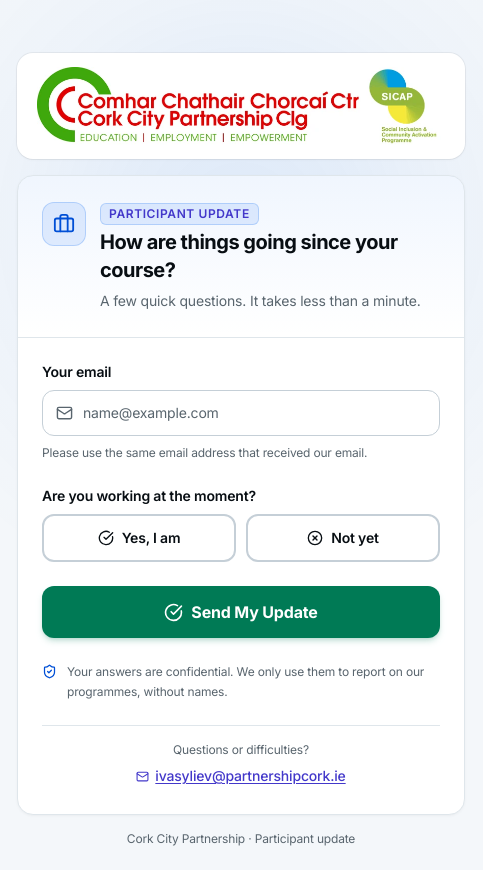
StatusUpdatePage › submits a working status and shows a summary
Step 1. Type "Anna@Example.com" into the field labelled "Your email" → {"x": 241, "y": 413}, box [42,390,440,436]
Step 2. Click the button "Yes, I am" → {"x": 139, "y": 538}, box [42,514,236,562]
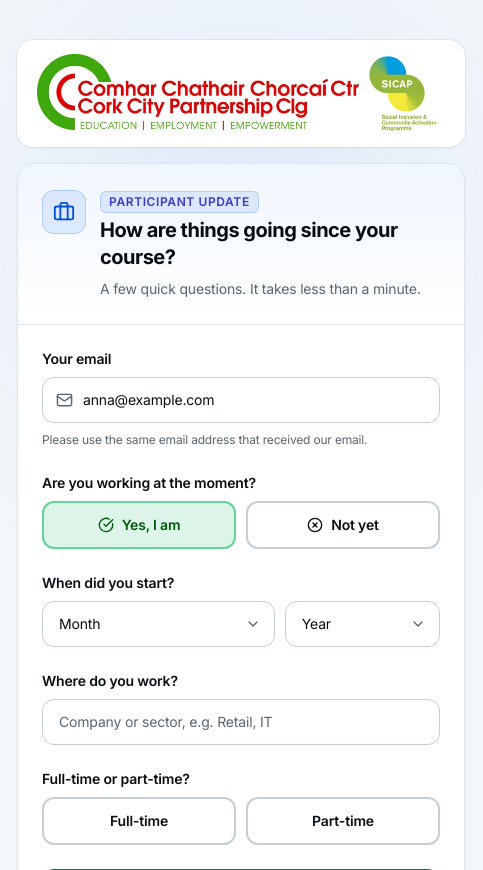
Step 3. Select "March" in the dropdown named "start month" → {"x": 158, "y": 624}, box [42,601,275,647]
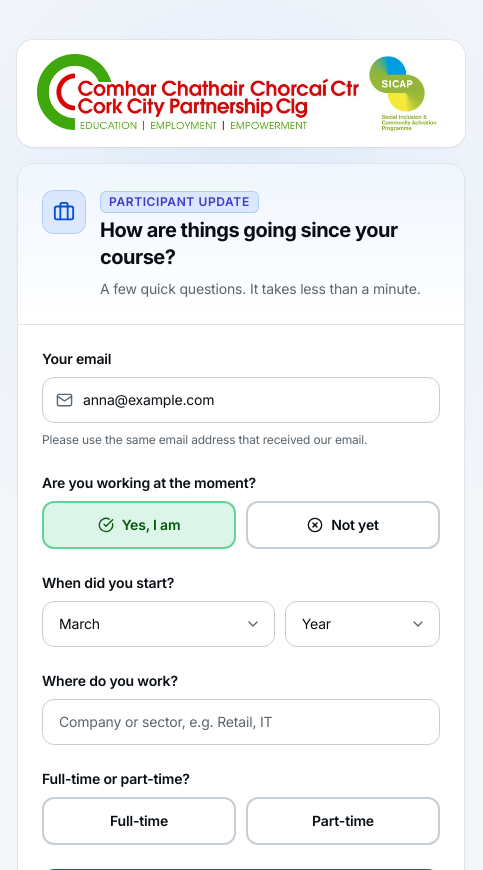
Step 4. Select "2024" in the dropdown named "start year" → {"x": 362, "y": 624}, box [285,601,440,647]
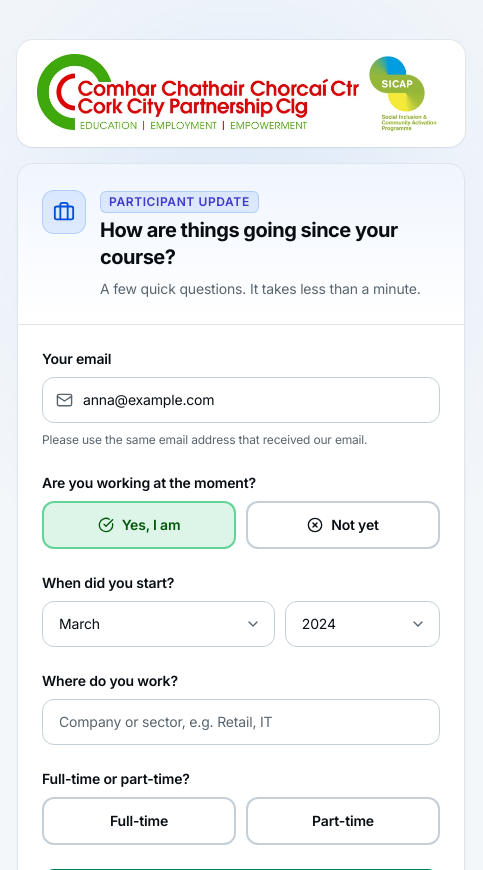
Step 5. Type "Retail" into the field labelled "Where do you work?" → {"x": 241, "y": 722}, box [42,699,440,745]
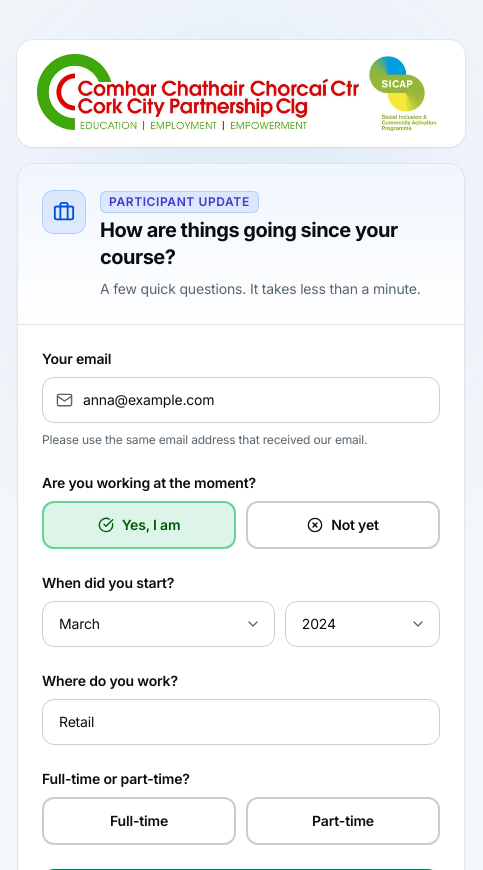
Step 6. Click the button "Part-time" → {"x": 343, "y": 821}, box [246,797,440,845]
(page scrolled)
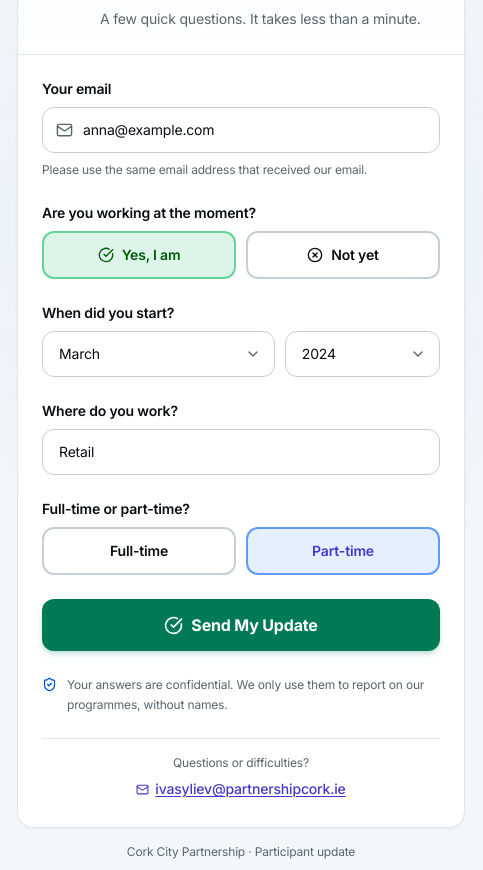
Step 7. Click the button "Send My Update" → {"x": 241, "y": 625}, box [42,599,440,651]
(page scrolled)
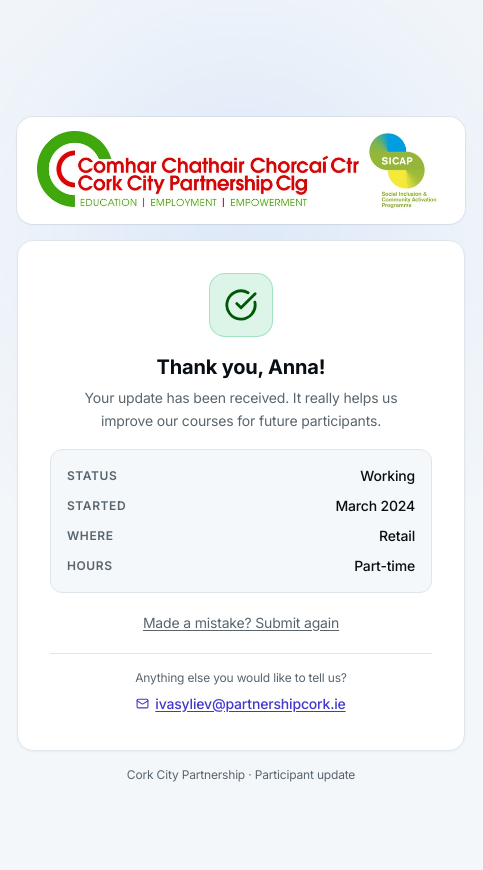
Expected: the heading "Thank you, Anna!" is shown, [157,355,325,379]
Expected: the text "March 2024" is shown, [335,496,415,516]
